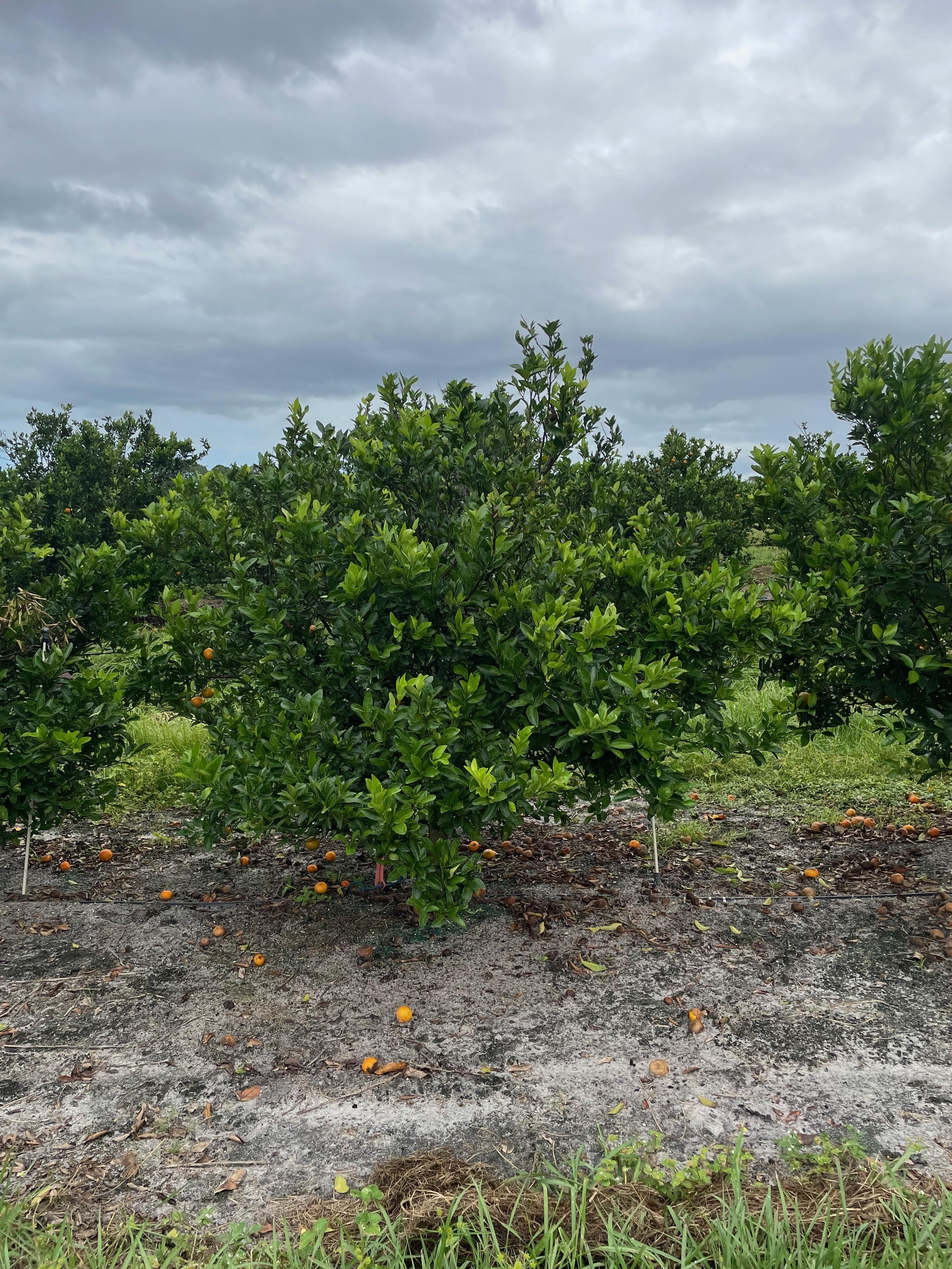fruit_on_ground: (796, 690, 813, 709), (304, 836, 321, 852), (201, 645, 216, 661), (189, 694, 204, 709), (200, 685, 215, 699), (306, 623, 318, 635), (220, 825, 232, 837), (63, 507, 72, 515), (670, 457, 677, 464), (688, 451, 694, 457), (682, 459, 688, 465)
fruit_on_tree: (648, 1056, 670, 1078), (360, 1054, 380, 1074), (394, 1004, 414, 1024), (357, 943, 375, 961), (687, 1019, 705, 1036), (97, 847, 114, 864), (686, 1005, 703, 1021), (889, 870, 905, 886), (220, 1032, 237, 1047), (849, 814, 867, 828), (891, 861, 908, 875), (800, 884, 817, 898), (471, 885, 486, 900), (481, 846, 496, 861), (211, 923, 227, 937), (313, 880, 329, 894), (860, 815, 876, 828), (323, 848, 337, 862), (252, 952, 266, 966), (467, 839, 482, 852), (907, 793, 922, 806), (803, 866, 819, 878), (499, 839, 513, 852), (38, 851, 52, 864), (503, 894, 517, 907), (627, 838, 641, 851), (926, 825, 940, 838), (159, 889, 173, 902), (679, 832, 692, 845), (810, 820, 824, 832), (838, 817, 852, 829), (58, 860, 72, 872), (521, 848, 534, 860), (305, 862, 318, 874), (198, 936, 212, 947), (559, 844, 572, 855), (845, 807, 858, 818), (896, 826, 909, 837), (901, 822, 915, 832), (614, 805, 626, 816), (885, 822, 897, 833), (339, 877, 351, 888), (238, 855, 250, 866), (868, 796, 881, 806), (227, 844, 238, 854), (583, 831, 594, 841)
